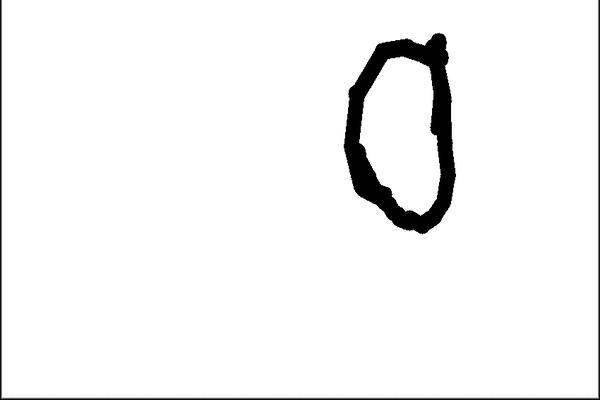O: (335, 23, 460, 248)
